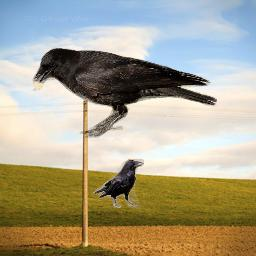Crow: (30, 47, 217, 138), (93, 159, 144, 208)
